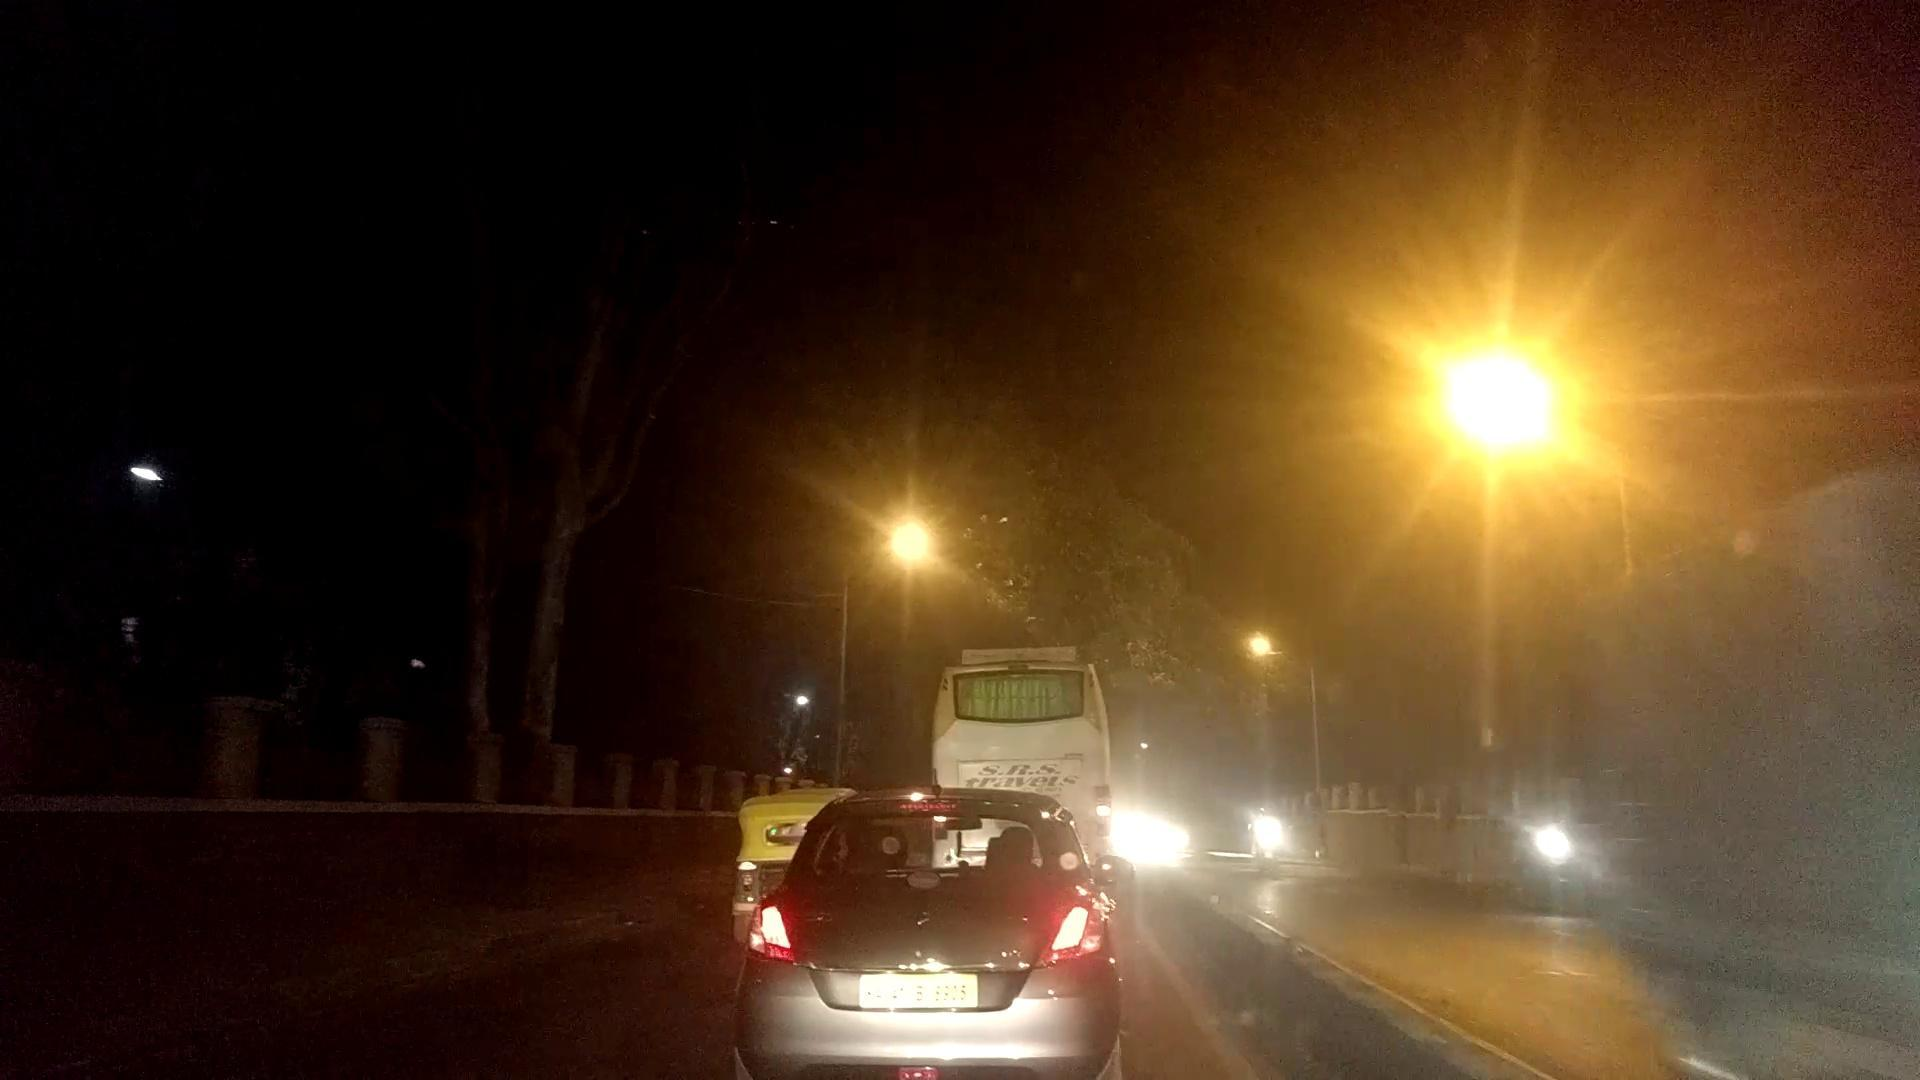on: (770, 272, 1183, 795), (1370, 162, 1671, 579)
